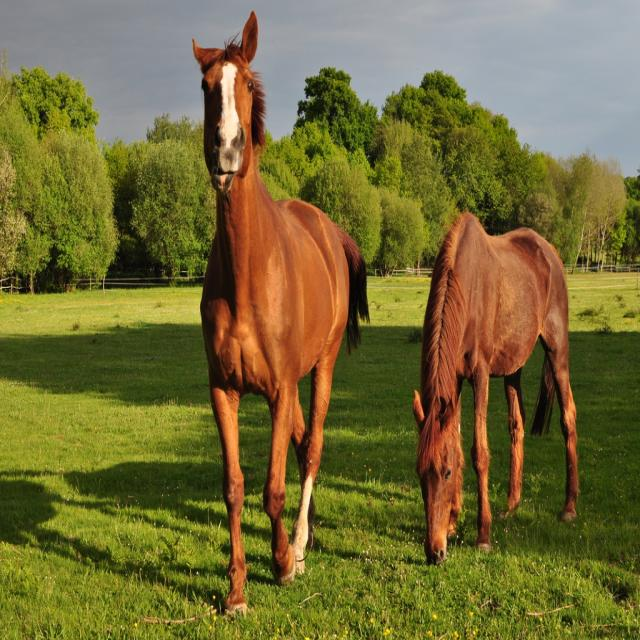Horse: (191, 9, 371, 626), (410, 208, 578, 566)
